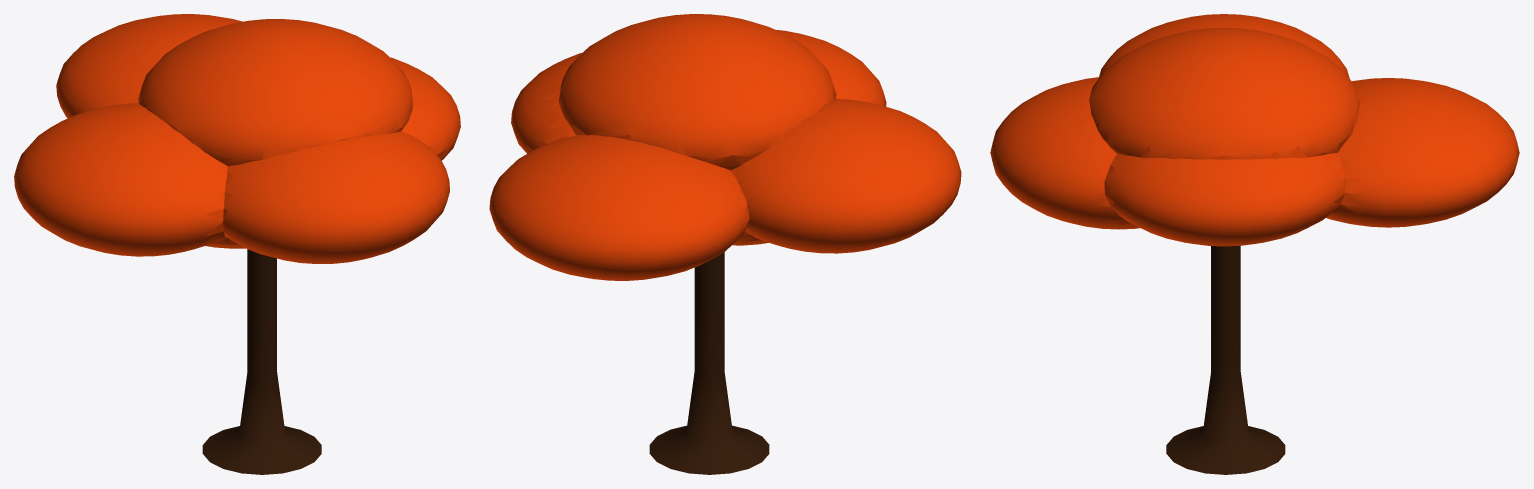
The model's file is tree3.FBX.
3 renders of one model, left to right at view 1: azimuth 30°, elevation 25°; view 2: azimuth 150°, elevation 25°; view 3: azimuth 270°, elevation 25°, orthographic.
Visible parts, largest first — view 1: tree1; view 2: tree1; view 3: tree1.
Part boxes in pixels (x1=…): tree1: x1=14, y1=14, x2=460, y2=474; tree1: x1=489, y1=14, x2=961, y2=474; tree1: x1=990, y1=14, x2=1519, y2=474.
Bounding box in the file's own units: 48.19 × 45.8 × 53.53.
